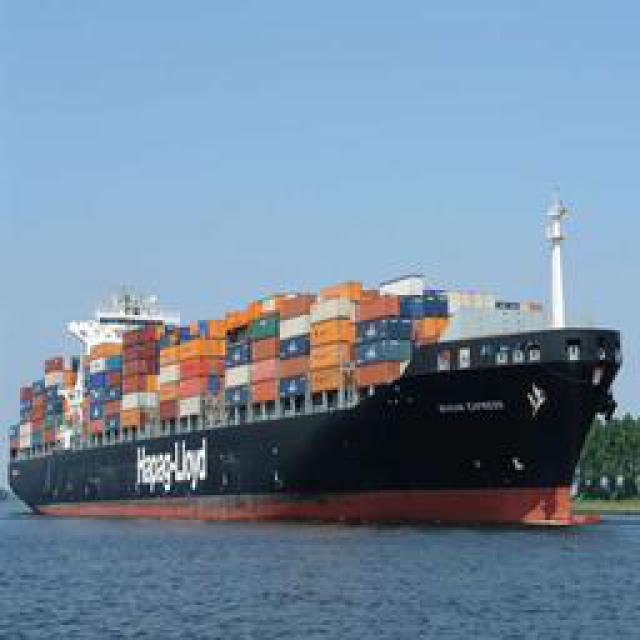Ship: (1, 238, 621, 513)
